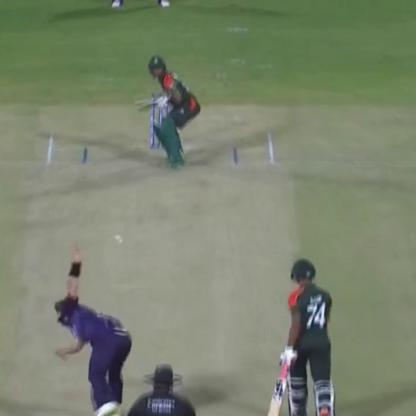ball: (106, 232, 129, 245)
bat: (267, 352, 289, 416), (134, 98, 168, 116)
pitch: (8, 106, 301, 416)
